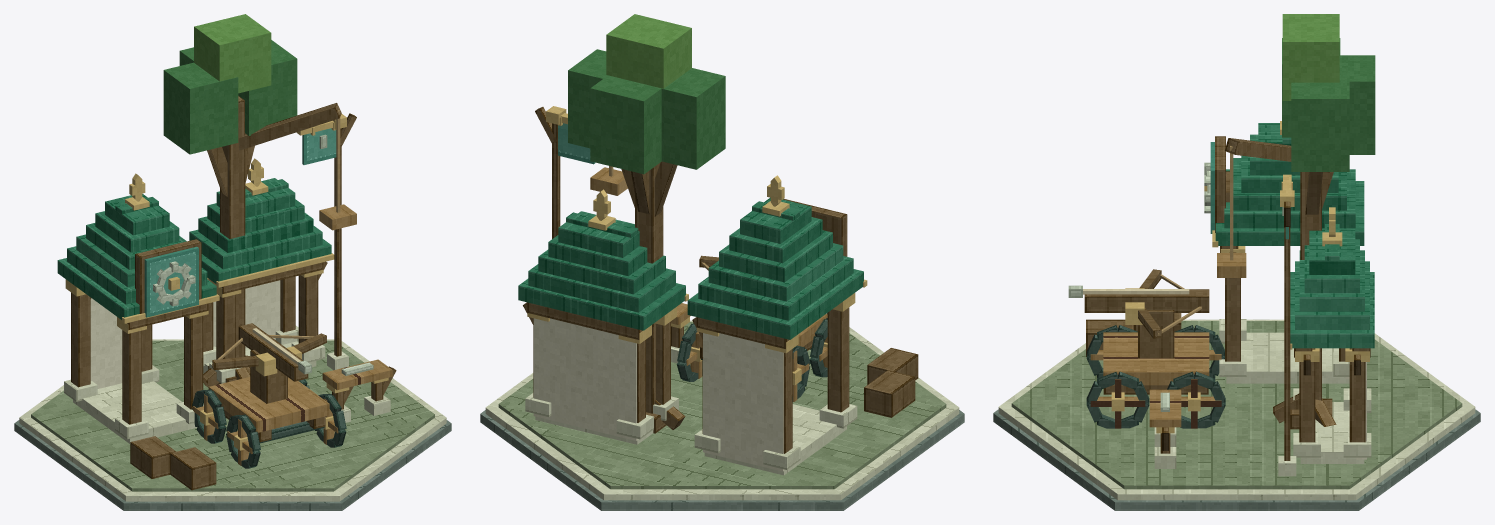
The model's file is elf_grand_arsenal_hex_v1.glb.
The picture shows the model from 3 angles, left to right: view 1: azimuth 30°, elevation 25°; view 2: azimuth 150°, elevation 25°; view 3: azimuth 270°, elevation 25°; orthographic projection. The views are drawn at different scales.
Parts seen in each view (by area): view 1: Elf_Grand_Arsenal_Hex_V1_Focus, Elf_Grand_Arsenal_Hex_V1_Foundation, Elf_Grand_Arsenal_Hex_V1_Hall, Elf_Grand_Arsenal_Hex_V1_Roofs, Elf_Grand_Arsenal_Hex_V1_Faction, Elf_Grand_Arsenal_Hex_V1_Training; view 2: Elf_Grand_Arsenal_Hex_V1_Hall, Elf_Grand_Arsenal_Hex_V1_Foundation, Elf_Grand_Arsenal_Hex_V1_Roofs, Elf_Grand_Arsenal_Hex_V1_Focus, Elf_Grand_Arsenal_Hex_V1_Training, Elf_Grand_Arsenal_Hex_V1_Faction; view 3: Elf_Grand_Arsenal_Hex_V1_Foundation, Elf_Grand_Arsenal_Hex_V1_Focus, Elf_Grand_Arsenal_Hex_V1_Roofs, Elf_Grand_Arsenal_Hex_V1_Hall, Elf_Grand_Arsenal_Hex_V1_Faction, Elf_Grand_Arsenal_Hex_V1_Training.
Part boxes in pixels (<box>): Elf_Grand_Arsenal_Hex_V1_Focus: <box>163,14,356,468</box>; Elf_Grand_Arsenal_Hex_V1_Foundation: <box>14,339,451,510</box>; Elf_Grand_Arsenal_Hex_V1_Hall: <box>64,261,327,443</box>; Elf_Grand_Arsenal_Hex_V1_Roofs: <box>57,158,334,323</box>; Elf_Grand_Arsenal_Hex_V1_Faction: <box>135,113,356,370</box>; Elf_Grand_Arsenal_Hex_V1_Training: <box>130,359,396,490</box>; Elf_Grand_Arsenal_Hex_V1_Hall: <box>523,293,857,475</box>; Elf_Grand_Arsenal_Hex_V1_Foundation: <box>480,320,964,510</box>; Elf_Grand_Arsenal_Hex_V1_Roofs: <box>518,175,867,339</box>; Elf_Grand_Arsenal_Hex_V1_Focus: <box>568,14,827,433</box>; Elf_Grand_Arsenal_Hex_V1_Training: <box>671,303,918,417</box>; Elf_Grand_Arsenal_Hex_V1_Faction: <box>535,106,847,256</box>; Elf_Grand_Arsenal_Hex_V1_Foundation: <box>993,319,1480,510</box>; Elf_Grand_Arsenal_Hex_V1_Focus: <box>1068,14,1375,429</box>; Elf_Grand_Arsenal_Hex_V1_Roofs: <box>1212,121,1374,349</box>; Elf_Grand_Arsenal_Hex_V1_Hall: <box>1219,246,1371,463</box>; Elf_Grand_Arsenal_Hex_V1_Faction: <box>1204,136,1296,476</box>; Elf_Grand_Arsenal_Hex_V1_Training: <box>1086,313,1181,468</box>.
Bounding box in the file's own units: 1.59 × 1.71 × 1.84.
Materials: 1 (1 with a texture image).
